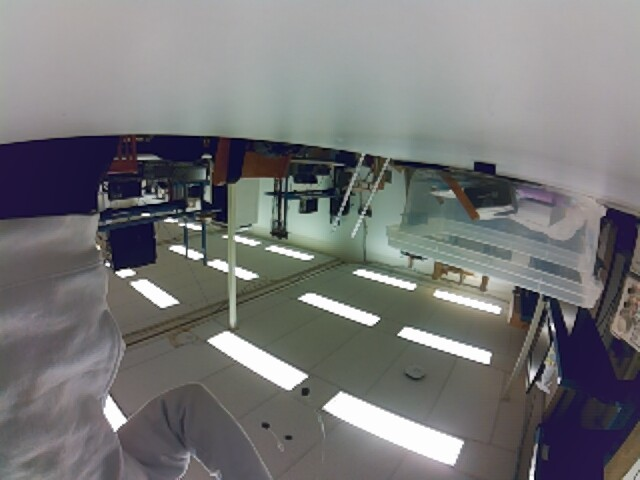mosquito: (259, 419, 272, 431), (300, 385, 311, 398), (283, 432, 293, 443)
